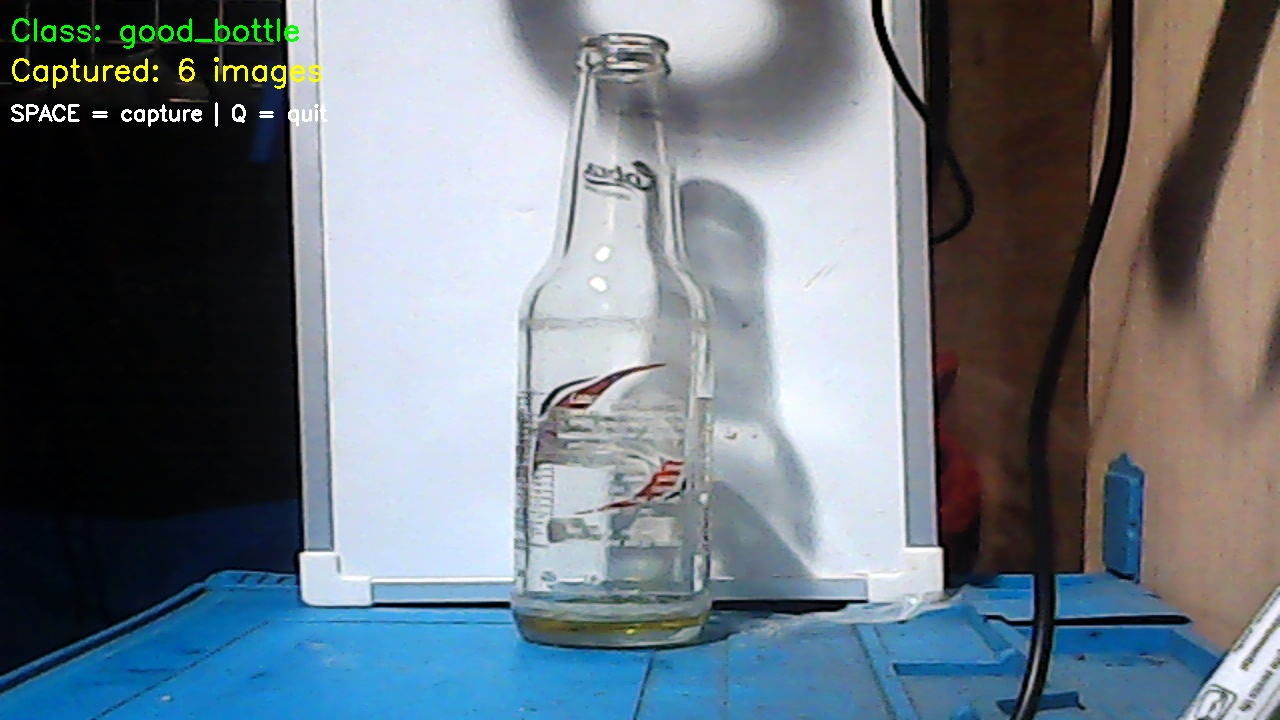good_bottle: (515, 33, 714, 646)
